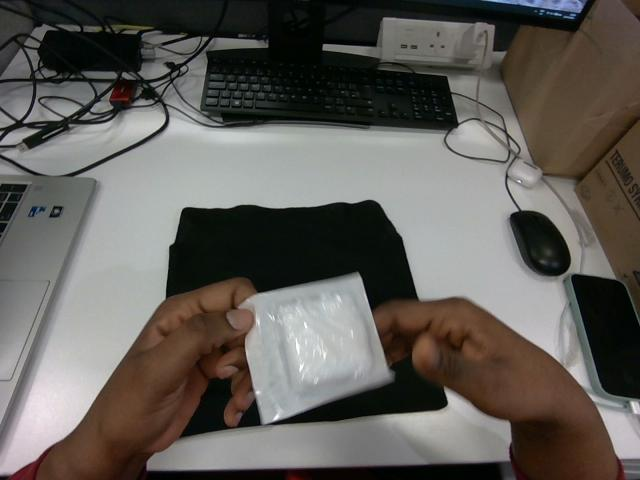gauze: (239, 273, 392, 423)
